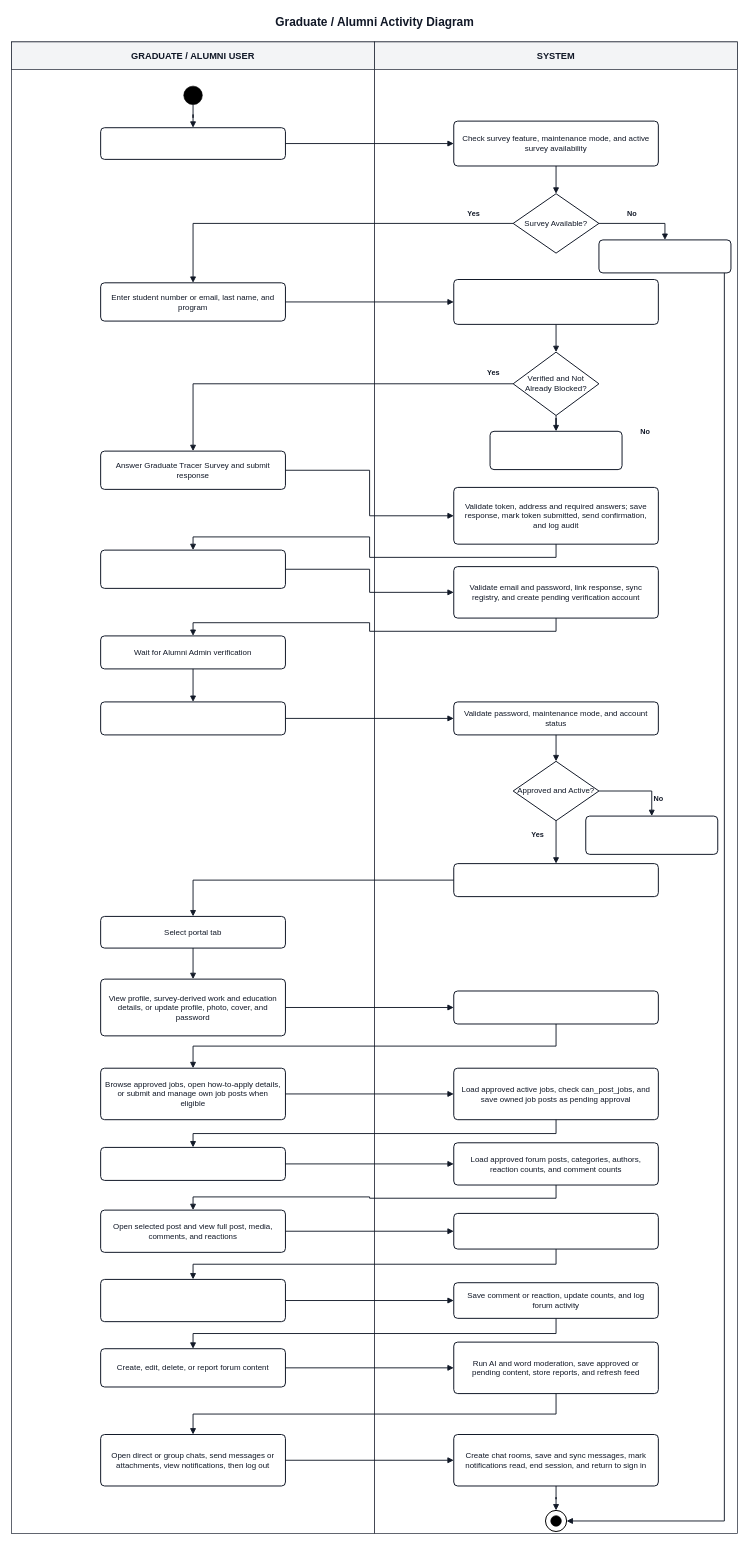
Image size: 749x1545. Some labels were removed from this diagram. The shapes that lost their labels are listed below. From the top down, each one's centre as x and y in pixels, then its label:
the point at 193,143: Open Survey Verification
the point at 664,256: Show unavailable or maintenance message
the point at 556,302: Verify registrar record, program match, existing response, and survey token
the point at 555,450: Show verification error or already-answered message
the point at 193,569: Create Graduate Portal Account from survey response
the point at 193,718: Open Graduate Sign In and enter credentials
the point at 651,835: Show pending, rejected, inactive, or login error message
the point at 556,880: Display Graduate Portal Dashboard
the point at 556,1007: Load graduate profile and save allowed profile updates
the point at 193,1164: Open Community Forum and view post feed
the point at 556,1231: Load post detail and existing comments for the selected forum post
the point at 193,1300: Add comment, react or unreact to post, or delete own comment
